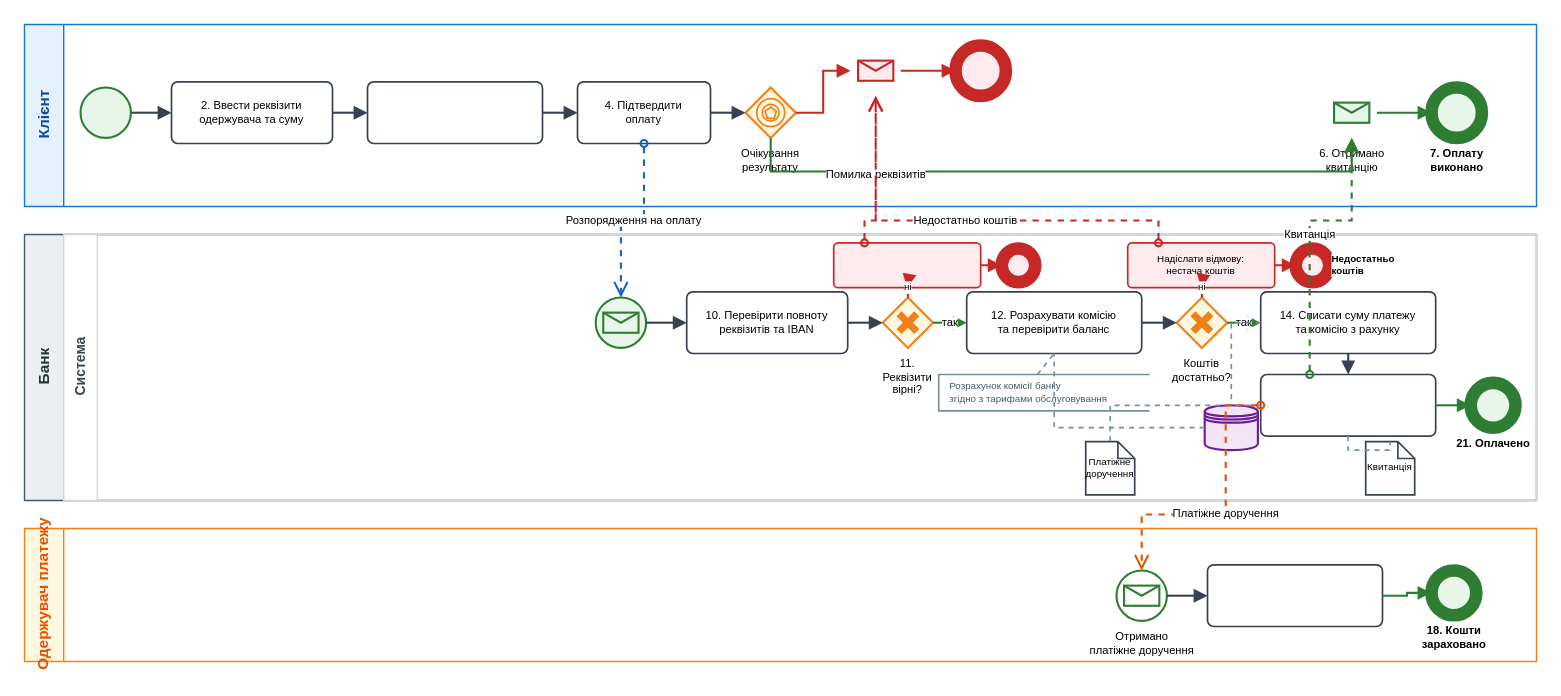
Image size: 1561x696. Some labels were removed from this diagram. The centre of each missing label's shape, as x and y in pixels:
15. Сформувати платіжне доручення та квитанцію: (x=1347, y=404)
17. Зарахувати кошти на рахунок організації: (x=1294, y=595)
3. Вказати рахунок списання та призначення: (x=454, y=112)
Виникла потреба оплатити послугу: (x=105, y=112)
Надіслати відмову: помилка реквізитів: (x=906, y=264)
Оплату відхилено: (x=980, y=70)
Отримано відмову: (x=875, y=70)
Отримано розпорядження: (x=620, y=322)
Помилка у реквізитах: (x=1018, y=265)
Сховище «Рахунки»: (x=1230, y=427)
